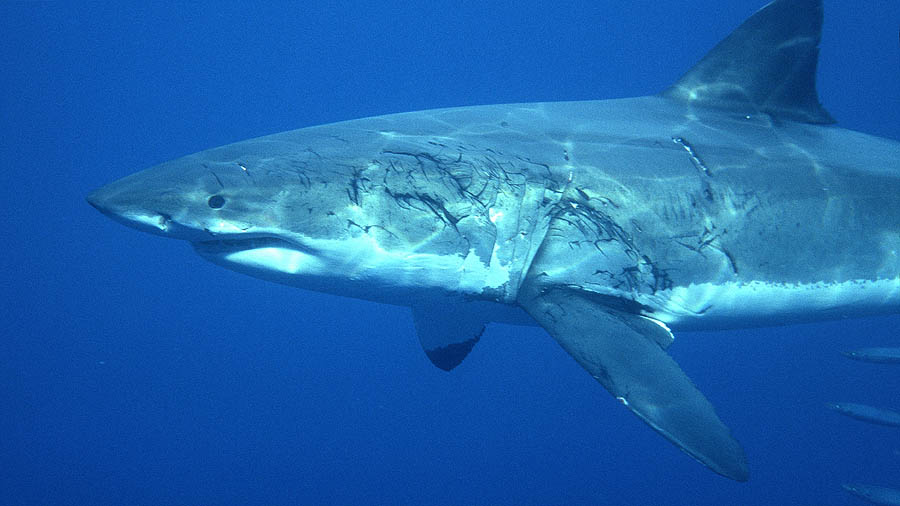Carcharodon_carcharias: (78, 3, 900, 485)
